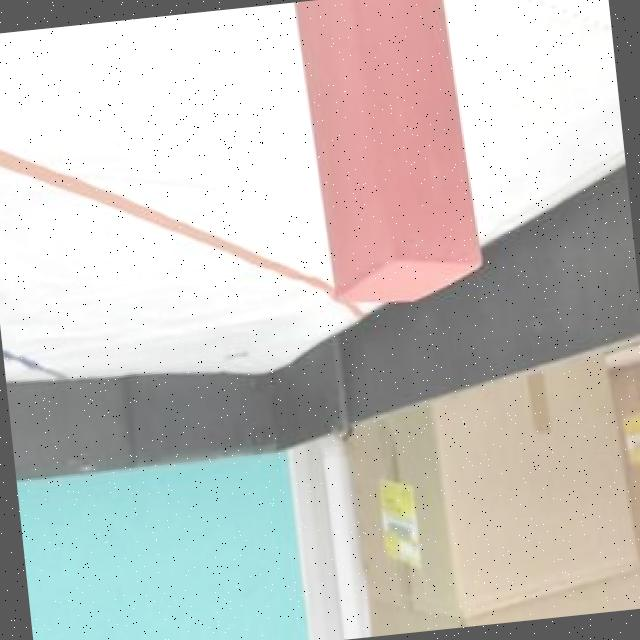redbox: (294, 0, 481, 313)
